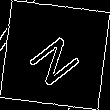N_NE: (23, 23, 87, 87)
